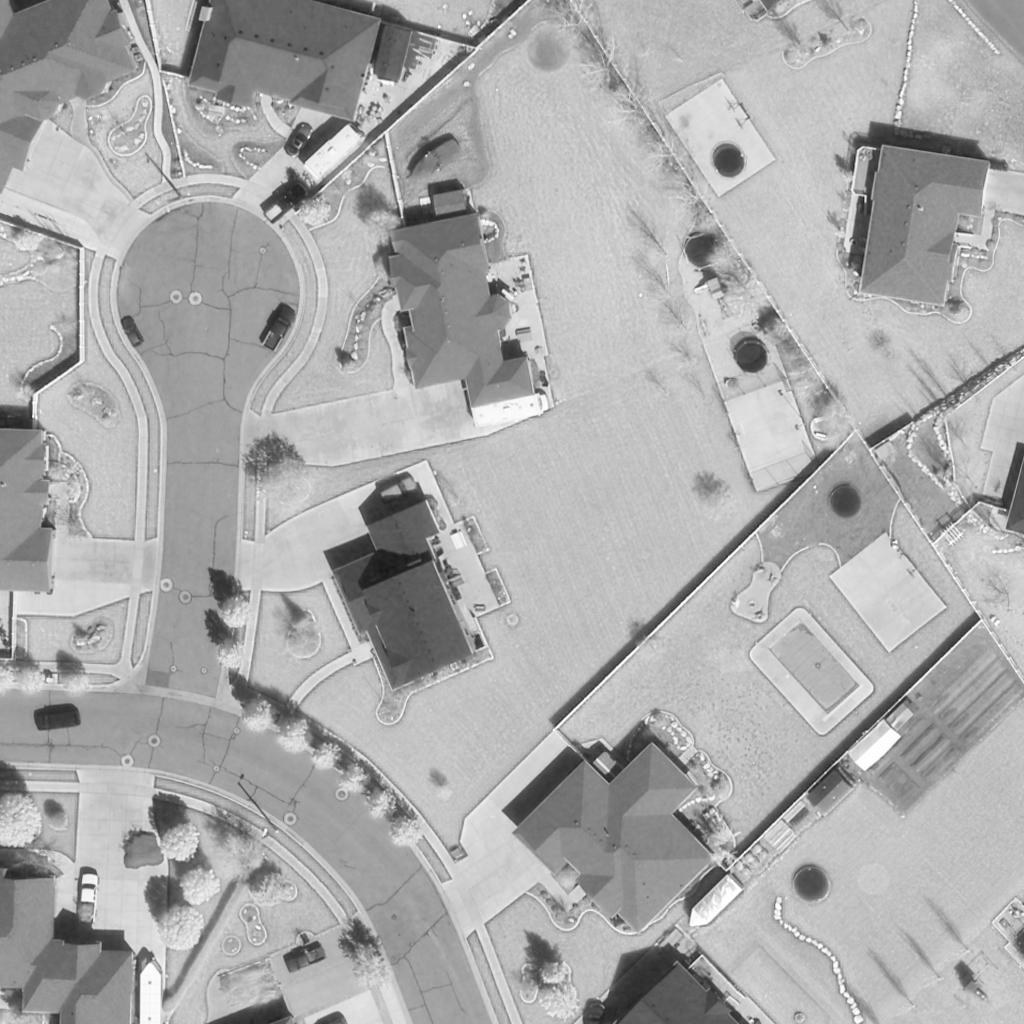vehicle: (299, 123, 371, 187), (682, 875, 744, 935), (402, 138, 464, 188), (470, 393, 550, 429), (261, 184, 311, 226), (263, 306, 295, 356), (284, 945, 328, 975), (378, 477, 420, 505), (283, 122, 315, 158), (78, 874, 98, 926), (118, 315, 148, 349), (34, 711, 82, 731)
